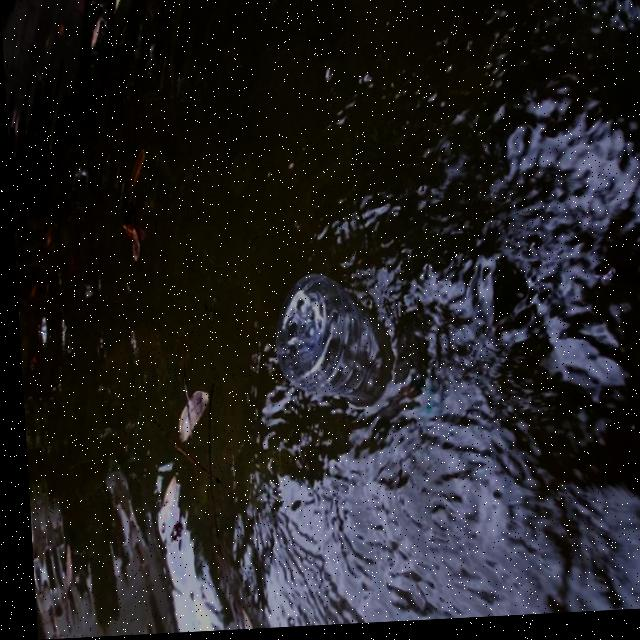leaf: (107, 133, 167, 292), (152, 384, 221, 463)
waterbottle: (263, 259, 447, 481)
